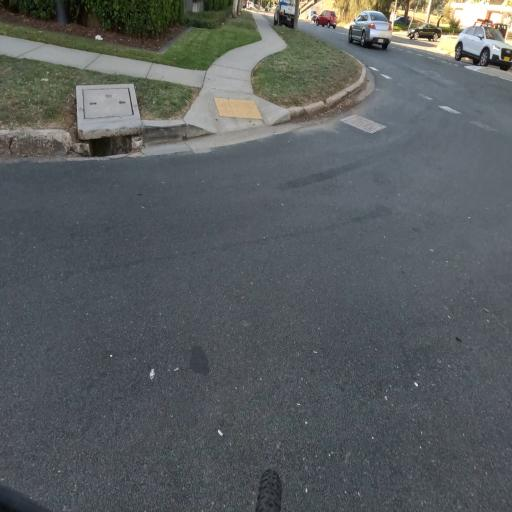kerb_cut: (184, 93, 289, 135)
